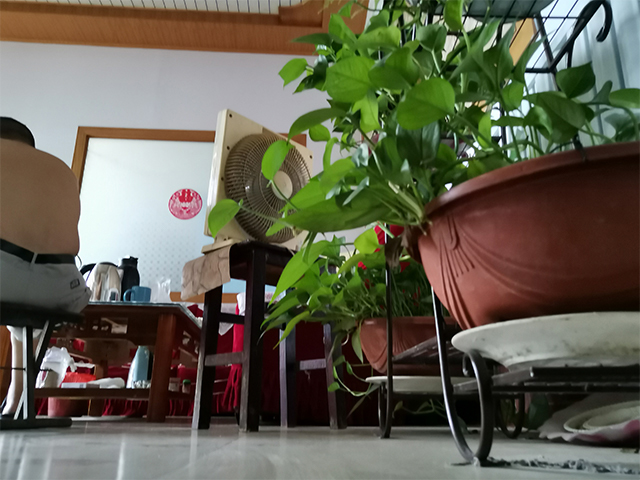stool: (189, 238, 350, 433), (1, 300, 87, 429)
table: (29, 299, 215, 423)
